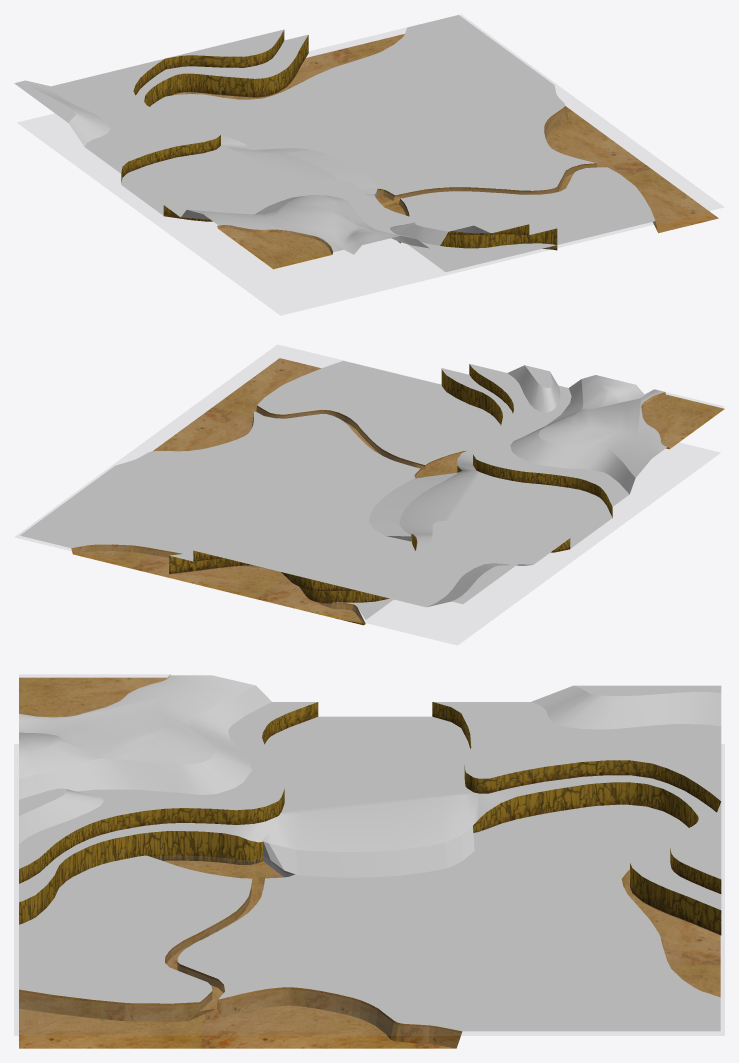
File: Terrain Model (1).FBX
3 renders of one model, top to bottom at view 1: azimuth 30°, elevation 25°; view 2: azimuth 150°, elevation 25°; view 3: azimuth 270°, elevation 25°, orthographic. The views are drawn at different scales.
Visible parts, largest first — view 1: Plane005, Plane029, Object019, Object023, Object004, Object024, Object015, Object022, Object021, Plane006, Plane003; view 2: Plane005, Plane029, Object024, Object019, Object023, Object015, Object004, Object021, Object022, Plane006, Plane003; view 3: Plane005, Object019, Object024, Object015, Plane029, Object023, Object004, Object022, Object021, Plane003, Plane006.
Part boxes in pixels (x1,y1,x2,y2): Plane005: (150, 15, 595, 195); Plane029: (18, 15, 722, 314); Object019: (121, 34, 556, 234); Object023: (400, 167, 655, 271); Object004: (14, 29, 283, 173); Object024: (164, 179, 528, 254); Object015: (173, 34, 718, 243); Object022: (144, 35, 557, 250); Object021: (121, 30, 529, 235); Plane006: (217, 225, 332, 269); Plane003: (218, 225, 332, 266); Plane005: (20, 411, 420, 619); Plane029: (15, 345, 719, 644); Object024: (470, 364, 667, 506); Object019: (170, 368, 612, 577); Object023: (257, 360, 500, 464); Object015: (71, 358, 466, 625); Object004: (194, 521, 569, 607); Object021: (193, 364, 612, 590); Object022: (169, 369, 502, 603); Plane006: (641, 392, 724, 449); Plane003: (641, 392, 723, 446); Plane005: (177, 804, 720, 1031); Object019: (19, 716, 721, 909); Object024: (19, 675, 316, 868); Object015: (19, 860, 720, 1048); Plane029: (14, 744, 724, 1035); Object023: (19, 855, 252, 1003); Object004: (434, 685, 721, 879); Object022: (19, 782, 721, 935); Object021: (19, 702, 721, 893); Plane003: (19, 675, 169, 716); Plane006: (19, 674, 170, 717).
Bounding box in the file's own units: 959 × 123 × 975.
